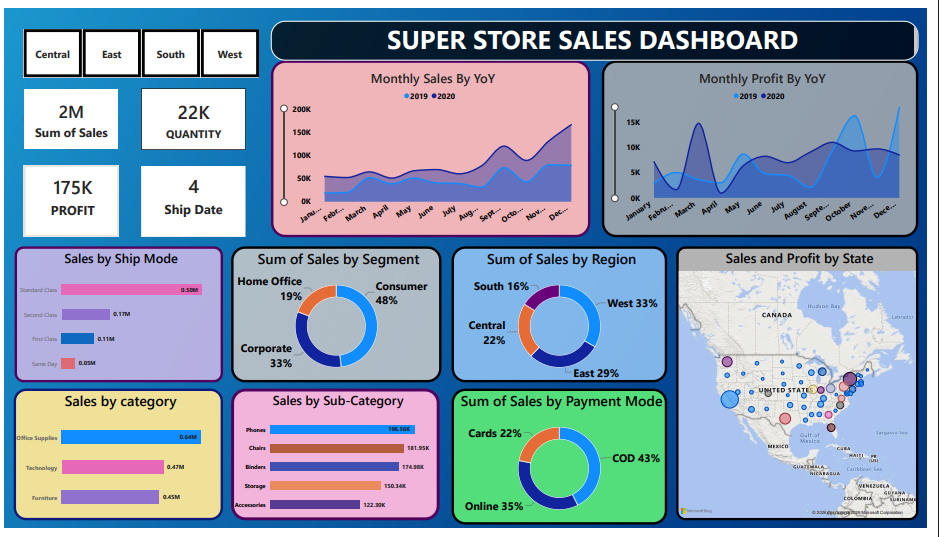

This screenshot's page, from the dashboard's own definition file:
{"tool":"powerbi","page":{"name":"Super Stores Sales Dashboard","canvas":[1920,1080],"ordinal":0},"visuals":[{"type":"clusteredBarChart","title":"Sales by category","fields":{"Category":["SuperStores_Sales.Category"],"Y":["Sum(SuperStores_Sales.Sales)"]},"box":[19.1,790.9,435.8,274.3],"z":0},{"type":"clusteredBarChart","title":"Sales by Sub-Category","fields":{"Category":["SuperStores_Sales.Sub-Category"],"Y":["Sum(SuperStores_Sales.Sales)"]},"box":[472,790.9,433.7,274.3],"z":1000},{"type":"clusteredBarChart","title":"Sales by Ship Mode","fields":{"Category":["SuperStores_Sales.Ship Mode"],"Y":["Sum(SuperStores_Sales.Sales)"]},"box":[21.3,495.4,433.7,282.8],"z":2000},{"type":"areaChart","title":"Monthly Sales By YoY","fields":{"Category":["SuperStores_Sales.Order Date.Variation.Date Hierarchy.Month"],"Series":["SuperStores_Sales.Order Date.Variation.Date Hierarchy.Year"],"Y":["Sum(SuperStores_Sales.Sales)"]},"box":[554.9,108.4,665.4,367.8],"z":3000},{"type":"areaChart","title":"Monthly Profit By YoY","fields":{"Category":["SuperStores_Sales.Order Date.Variation.Date Hierarchy.Month"],"Series":["SuperStores_Sales.Order Date.Variation.Date Hierarchy.Year"],"Y":["Sum(SuperStores_Sales.Profit)"]},"box":[1243.7,108.4,659.1,367.8],"z":4000},{"type":"map","title":"Sales and Profit by State","fields":{"Category":["SuperStores_Sales.State"],"Size":["Sum(SuperStores_Sales.Sales)"]},"box":[1398.9,495.4,503.9,569.8],"z":5000},{"type":"donutChart","fields":{"Category":["SuperStores_Sales.Segment"],"Y":["Sum(SuperStores_Sales.Sales)"]},"box":[472,495.4,438,282.8],"z":6000},{"type":"donutChart","fields":{"Category":["SuperStores_Sales.Payment Mode"],"Y":["Sum(SuperStores_Sales.Sales)"]},"box":[931.2,790.9,448.6,282.8],"z":7000},{"type":"donutChart","fields":{"Category":["SuperStores_Sales.Region"],"Y":["Sum(SuperStores_Sales.Sales)"]},"box":[931.2,495.4,448.6,282.8],"z":8000},{"type":"slicer","fields":{"Values":["SuperStores_Sales.Region"]},"box":[19.1,40.4,529.4,104.2],"z":9000},{"type":"textbox","box":[554.9,25.5,1347.9,82.9],"z":10000},{"type":"cardVisual","fields":{"Data":["Sum(SuperStores_Sales.Sales)"]},"box":[40.4,165.8,197.7,127.6],"z":11000},{"type":"cardVisual","fields":{"Data":["Sum(SuperStores_Sales.Quantity)"]},"box":[284.9,165.8,216.9,127.6],"z":12000},{"type":"cardVisual","fields":{"Data":["Sum(SuperStores_Sales.Profit)"]},"box":[40.4,327.4,197.7,148.8],"z":13000},{"type":"cardVisual","fields":{"Data":["Avg(SuperStores_Sales.AvgDeleivery)"]},"box":[284.9,327.4,216.9,148.8],"z":14000}]}

Visuals, with their boxes in screenshot pixels (x1, y1, x2, y2), scaled from the page's 1920x1080 canvas onto the 939x537 screenshot:
"Sales by category" clusteredBarChart: bbox=[9, 393, 222, 530]
"Sales by Sub-Category" clusteredBarChart: bbox=[231, 393, 443, 530]
"Sales by Ship Mode" clusteredBarChart: bbox=[10, 246, 223, 387]
"Monthly Sales By YoY" areaChart: bbox=[271, 54, 597, 237]
"Monthly Profit By YoY" areaChart: bbox=[608, 54, 931, 237]
"Sales and Profit by State" map: bbox=[684, 246, 931, 530]
donutChart - SuperStores_Sales.Segment x Sum(SuperStores_Sales.Sales): bbox=[231, 246, 445, 387]
donutChart - SuperStores_Sales.Payment Mode x Sum(SuperStores_Sales.Sales): bbox=[455, 393, 675, 534]
donutChart - SuperStores_Sales.Region x Sum(SuperStores_Sales.Sales): bbox=[455, 246, 675, 387]
slicer - SuperStores_Sales.Region: bbox=[9, 20, 268, 72]
textbox: bbox=[271, 13, 931, 54]
cardVisual - Sum(SuperStores_Sales.Sales): bbox=[20, 82, 116, 146]
cardVisual - Sum(SuperStores_Sales.Quantity): bbox=[139, 82, 245, 146]
cardVisual - Sum(SuperStores_Sales.Profit): bbox=[20, 163, 116, 237]
cardVisual - Avg(SuperStores_Sales.AvgDeleivery): bbox=[139, 163, 245, 237]
